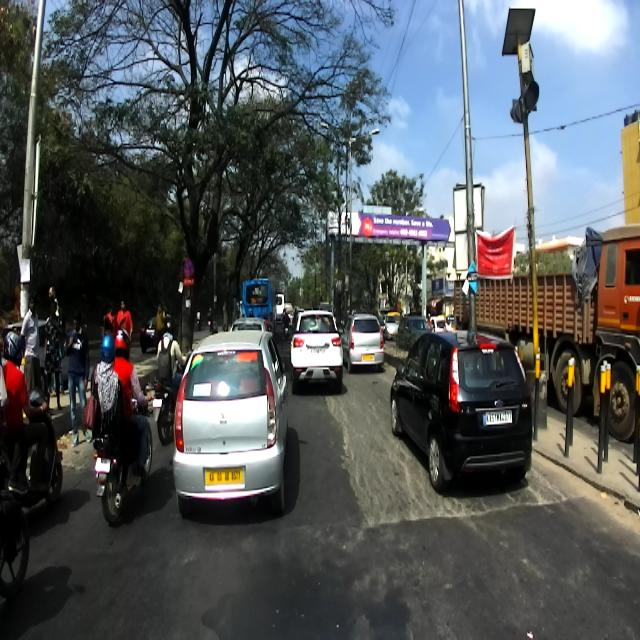car ahead at: (387, 317, 538, 498), (170, 320, 288, 522), (294, 310, 346, 391)
motorcycle ahead at: (87, 418, 155, 520)
